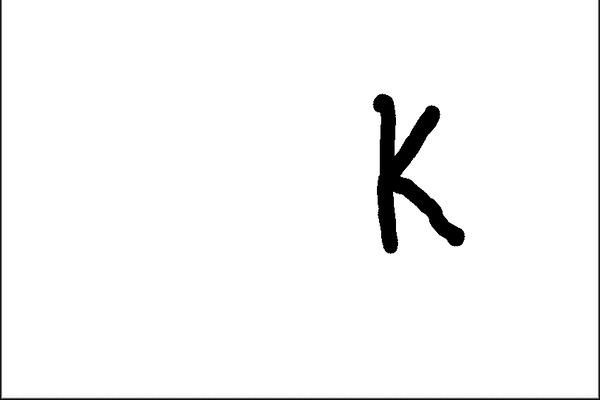K: (366, 83, 469, 259)
